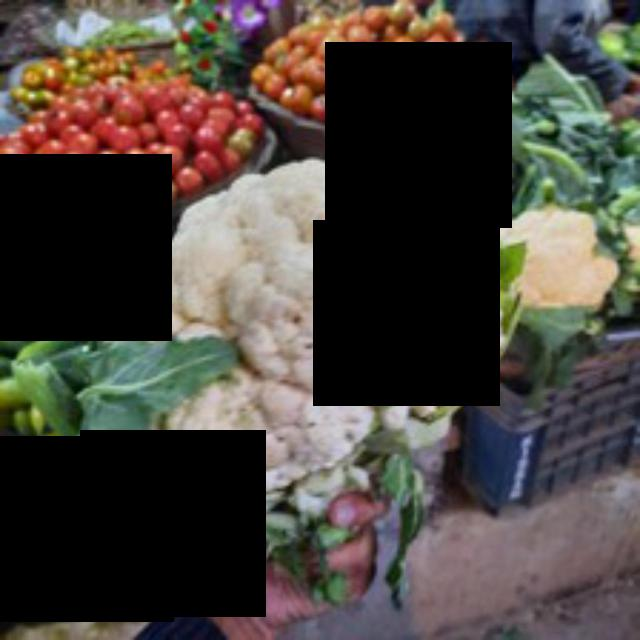cauliflower: (92, 153, 536, 542)
